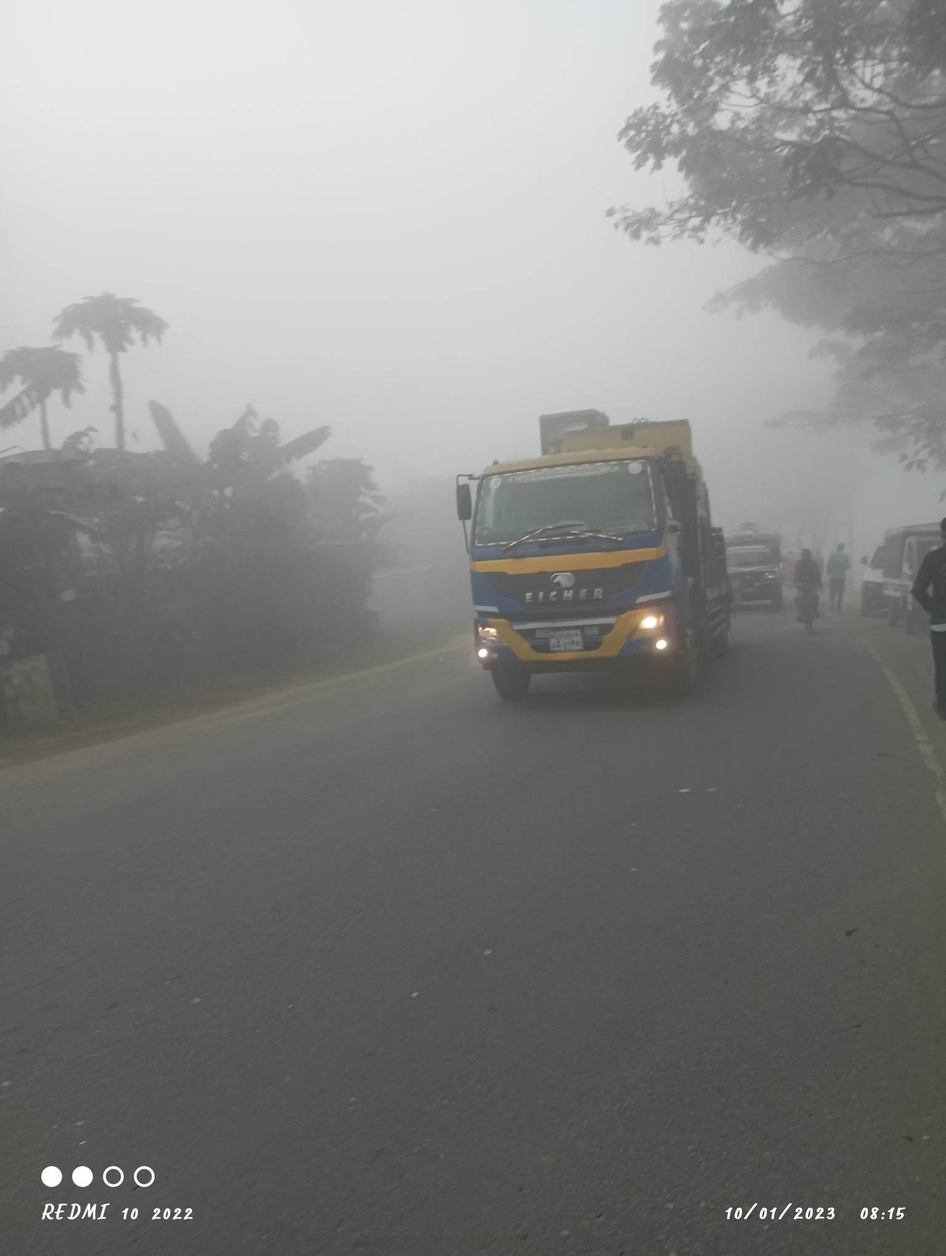Truck: (406, 400, 737, 727), (727, 526, 795, 620)
